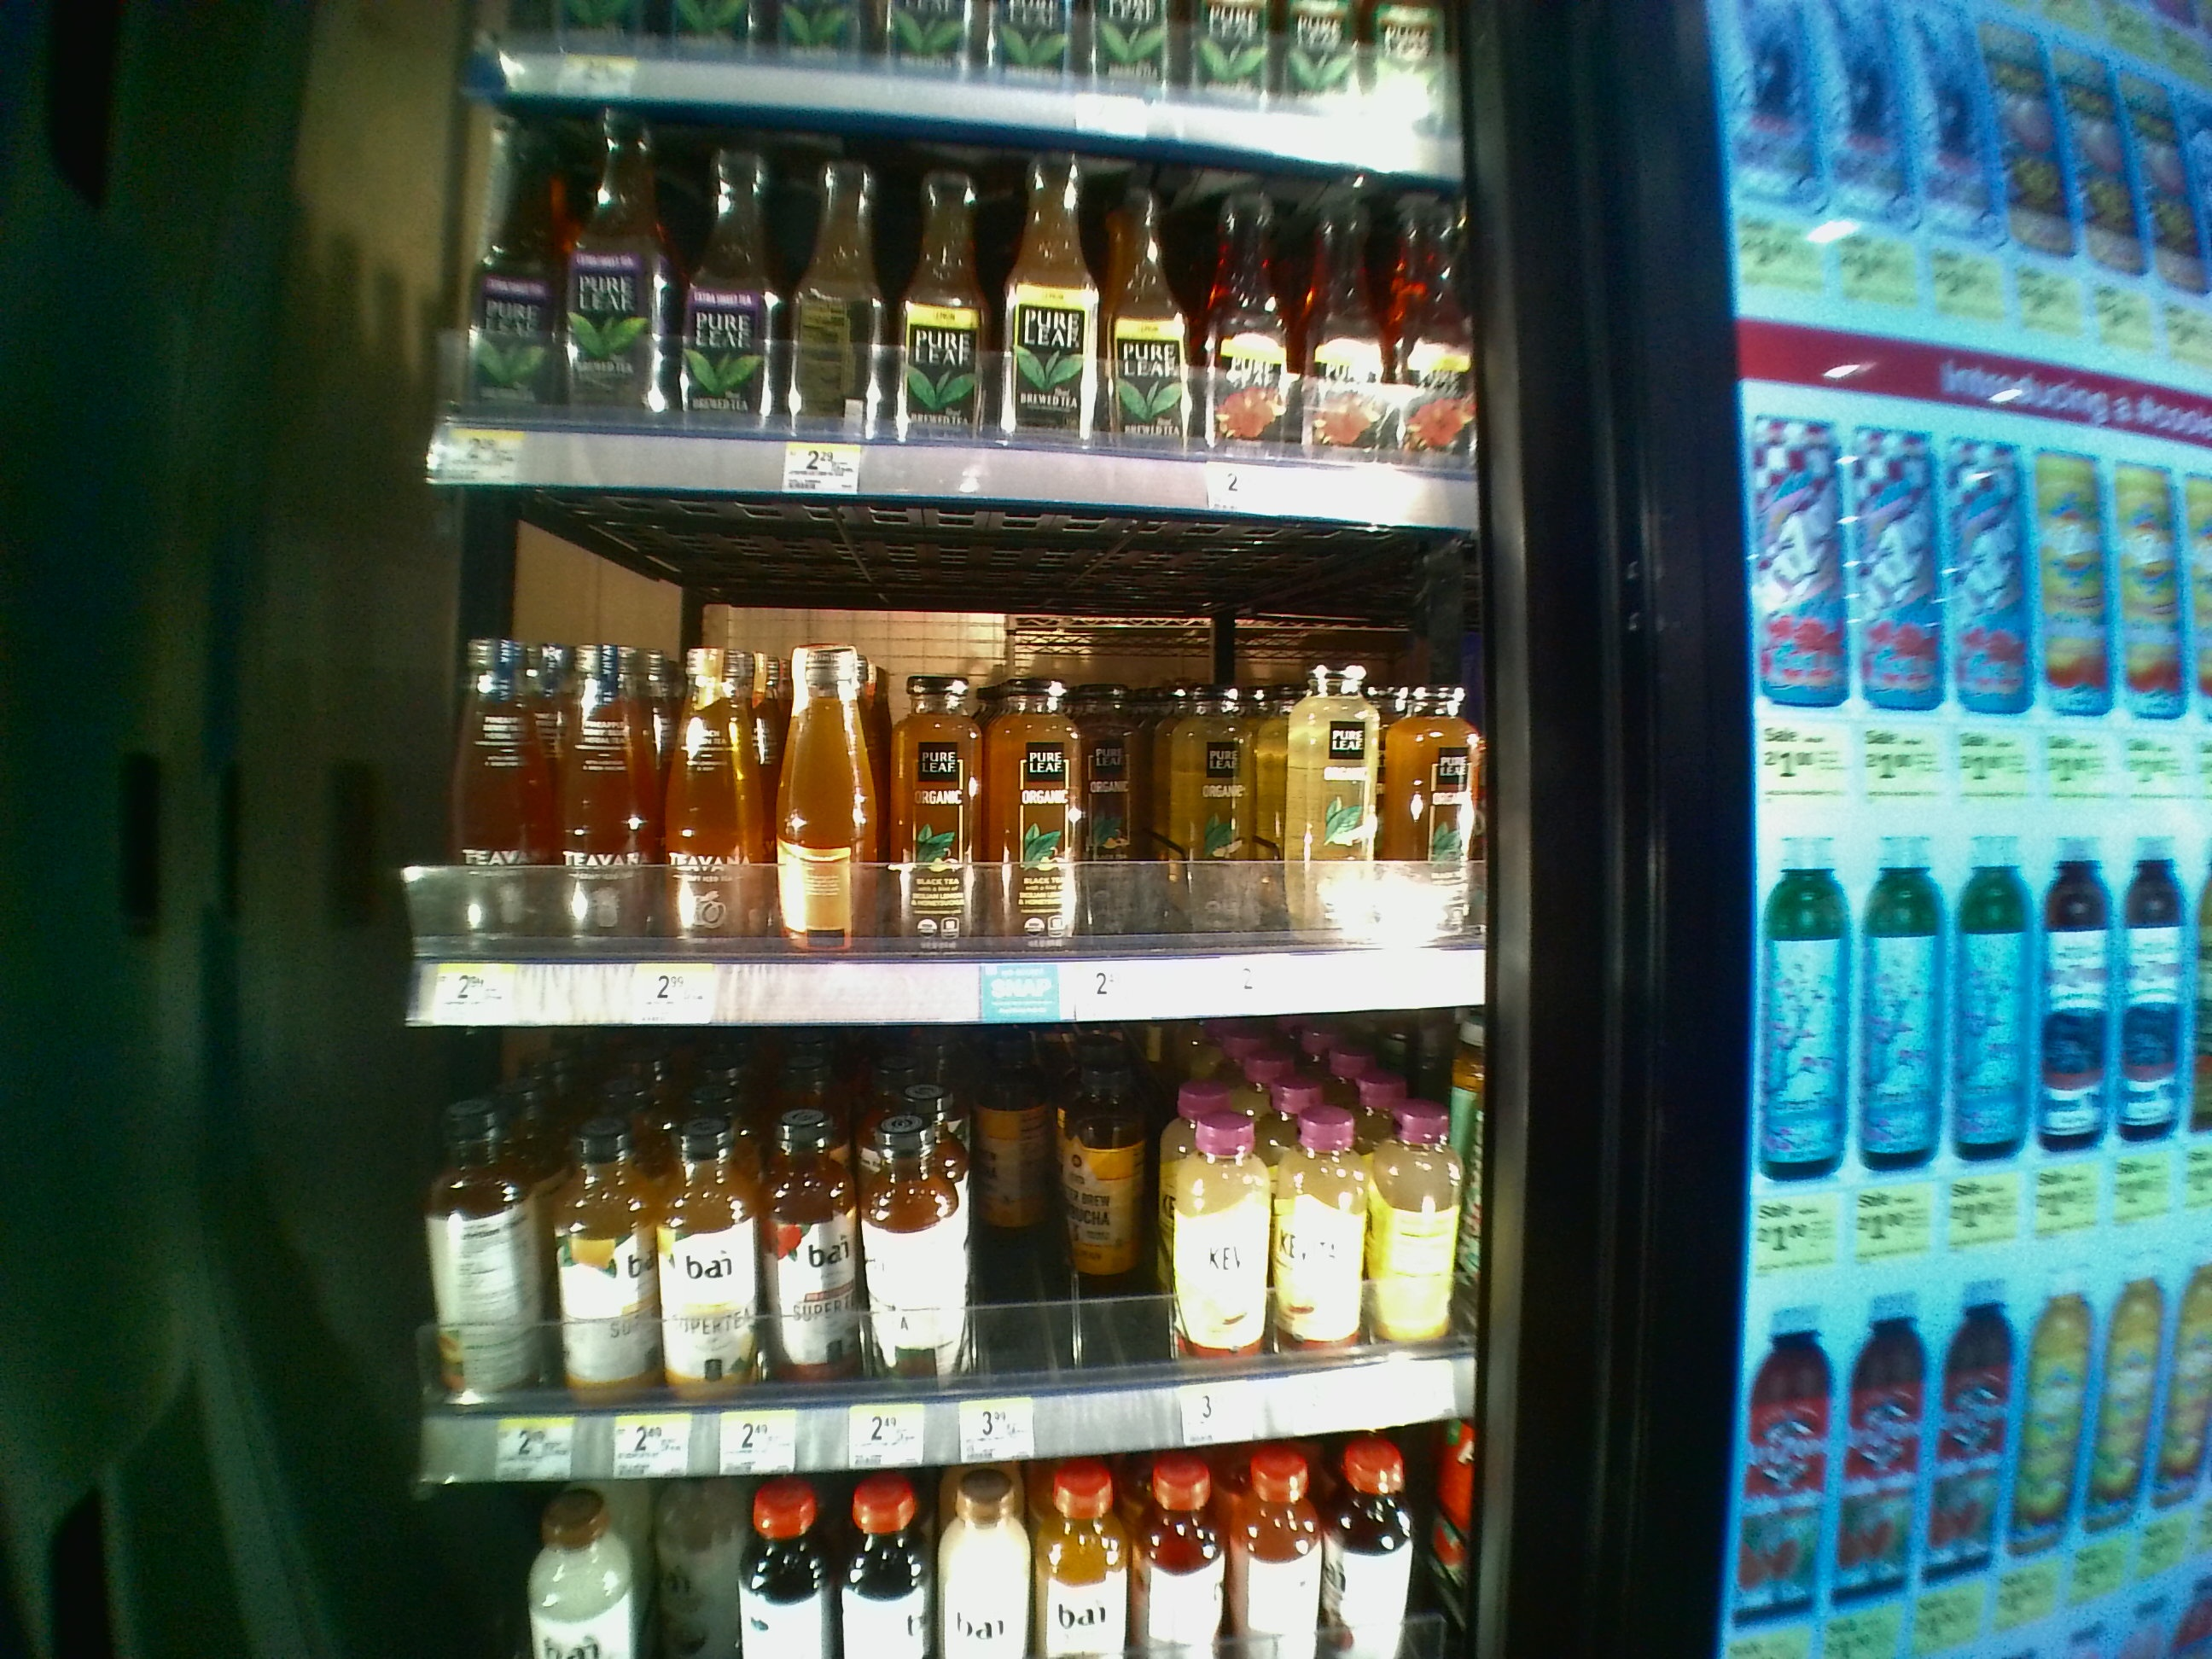shelf: (409, 481, 1496, 1023), (415, 1037, 1489, 1492)
